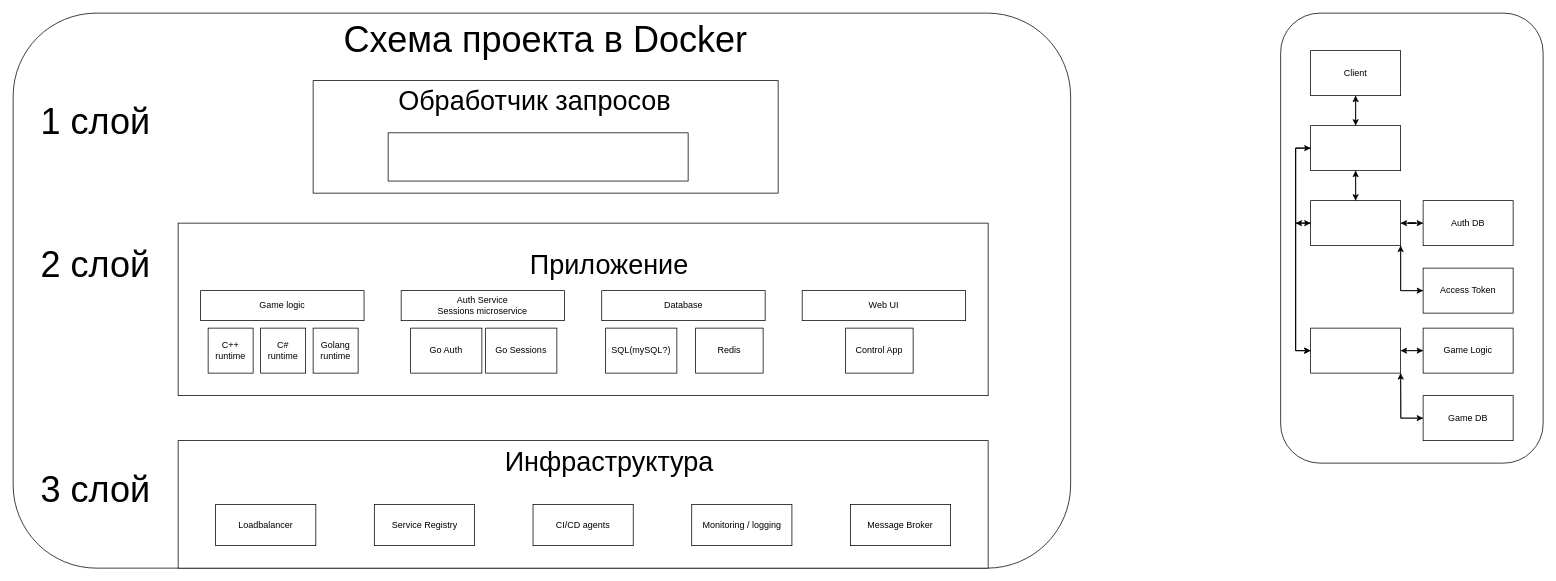
The diagram is 1556 pixels wide and 581 high, and some of its shapes have lost their labels. The centre of each missing label's shape, as x and y in pixels:
"Auth" belongs at [1355,223].
"Listener" belongs at [1355,148].
"Router" belongs at [1355,350].
"Прослушивание подключений и переадрессация по сервисам" belongs at [537,156].
